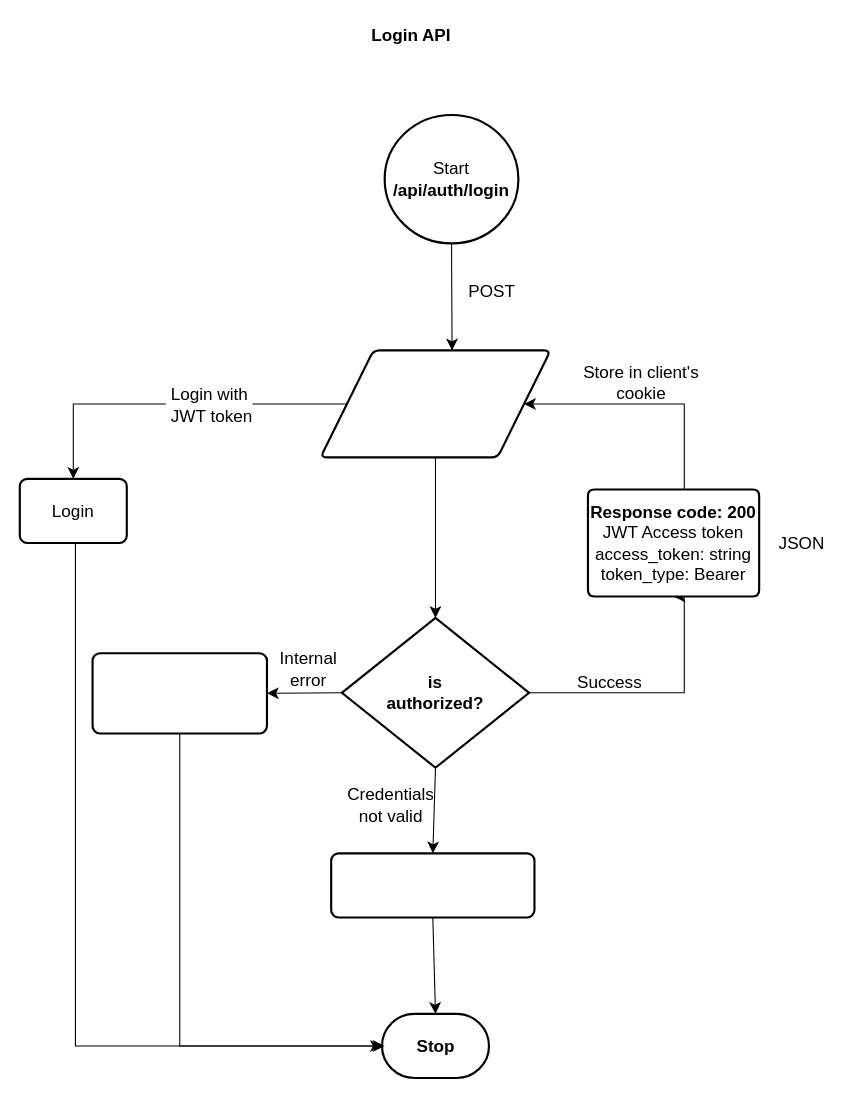
This 852x1097 diagram has some shape labels left out. Here are the shapes that lost their labels. From the top down, the centre of each, then its label:
At point (435, 403): "User Input Login credentials user_name: string password: string".
At point (179, 693): "Response code: 500 Internal server error".
At point (432, 885): "Response code: 401 Unauthorized".
